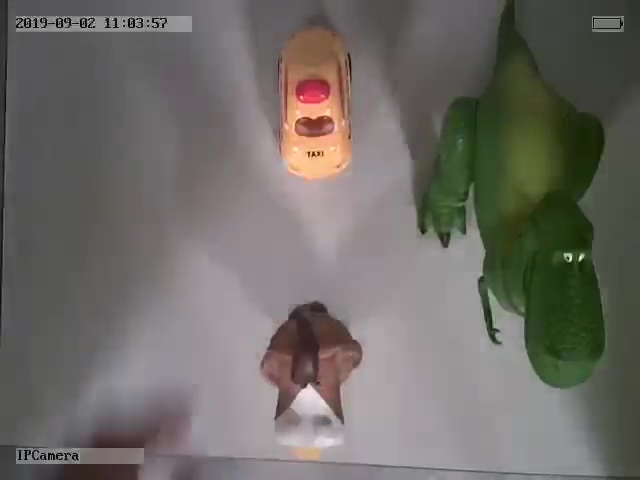car: (273, 22, 355, 180)
horse: (257, 300, 363, 462)
rex: (419, 15, 606, 388)
